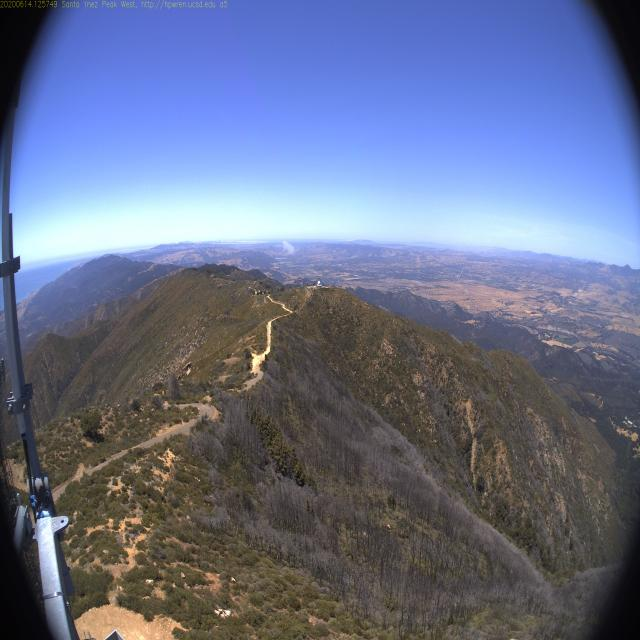smoke: (281, 238, 298, 256)
